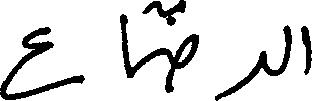X: (0, 22, 81, 100), (217, 46, 265, 100), (175, 0, 198, 73), (120, 9, 130, 82), (301, 21, 311, 79), (282, 20, 290, 77)
